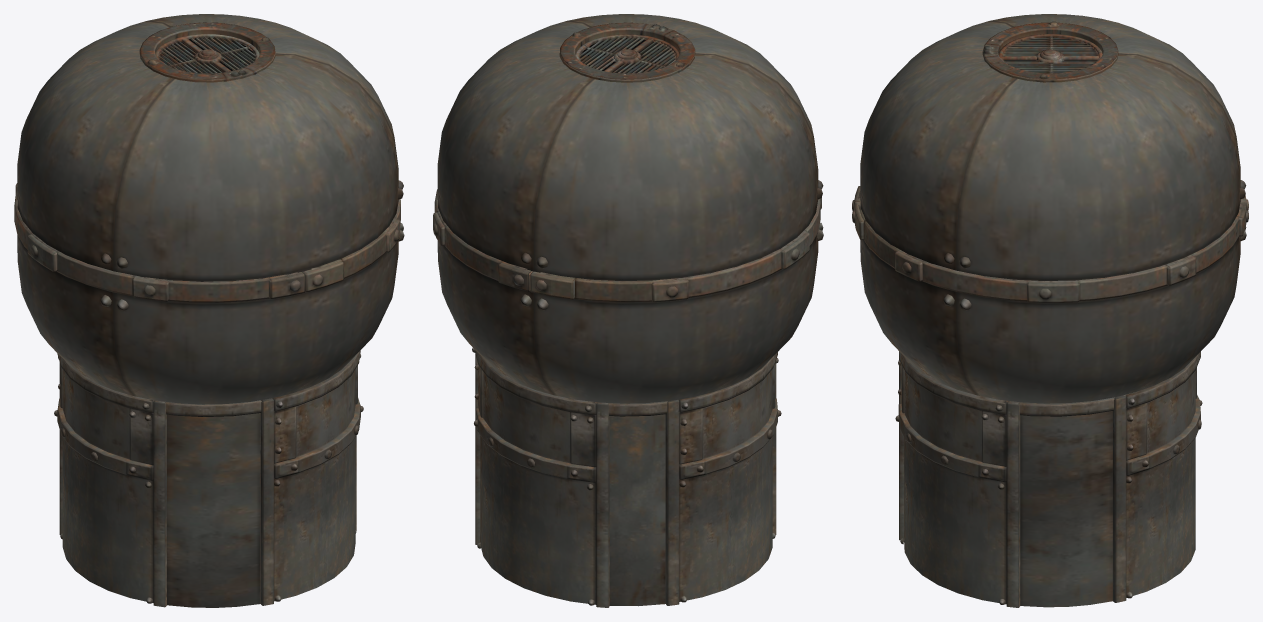
File: structure_002.glb
The picture shows the model from 3 angles, left to right: view 1: azimuth 30°, elevation 25°; view 2: azimuth 150°, elevation 25°; view 3: azimuth 270°, elevation 25°; orthographic projection.
Visible parts, largest first — view 1: Building_12_002; view 2: Building_12_002; view 3: Building_12_002.
Boxes of the visible parts, x1,y1,x2,y2 form: Building_12_002: [14, 14, 404, 607]; Building_12_002: [433, 14, 823, 607]; Building_12_002: [852, 14, 1248, 607].
Bounding box in the file's own units: 6.05 × 8.33 × 6.05.
1 material, 1 textured.
